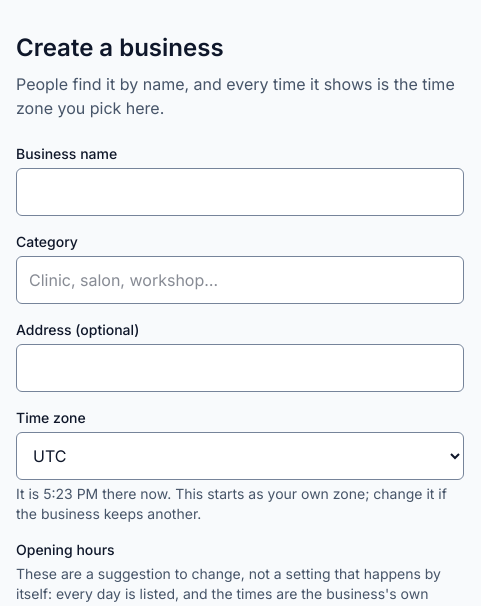
Scenario: creating a business › puts the server's complaint on the right field
Type "North Clinic" into the field labelled "Business name" at [240, 192], box [16, 168, 464, 216]
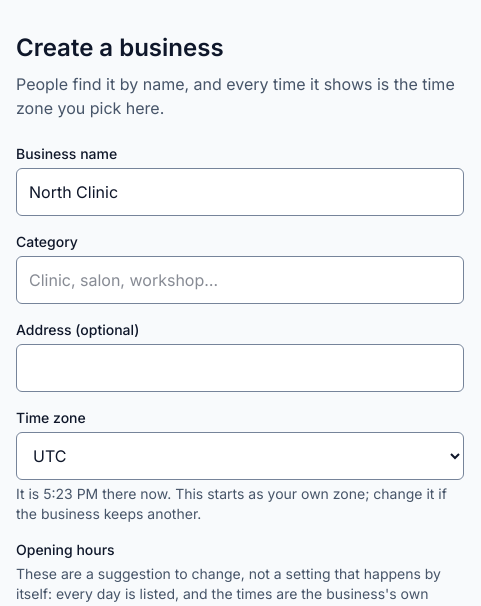
Type "clinic" into the field labelled "Category" at [240, 280], box [16, 256, 464, 304]
(page scrolled)
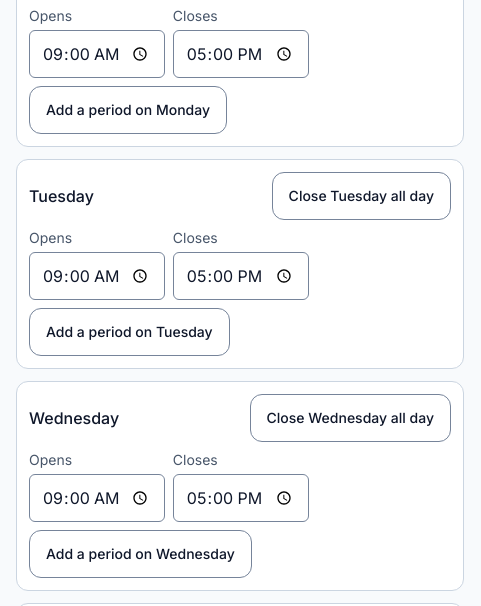
Submit the form named "Create business"
(page scrolled)
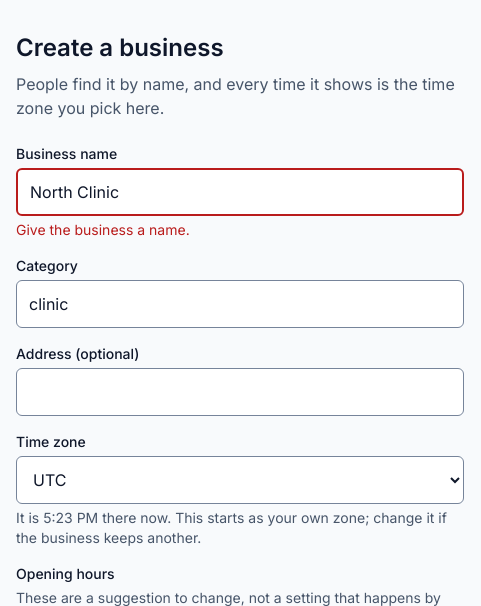
expect the text "Give the business a name." is shown: met, box [16, 221, 190, 238]
